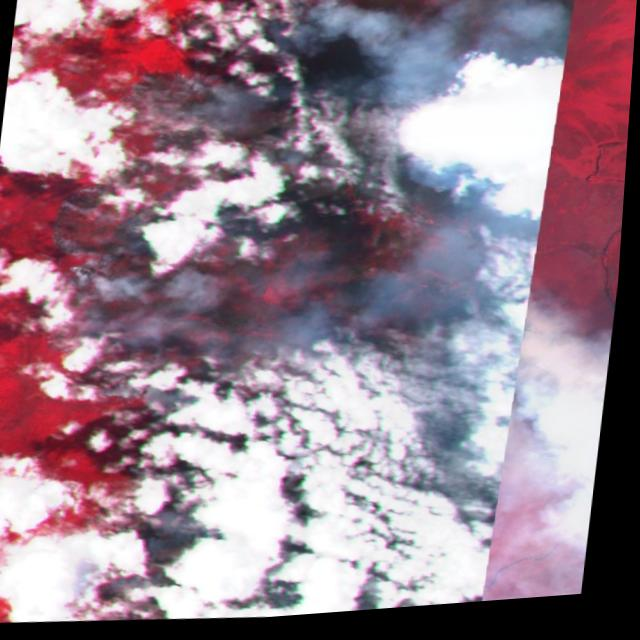fire: (8, 0, 595, 638)
